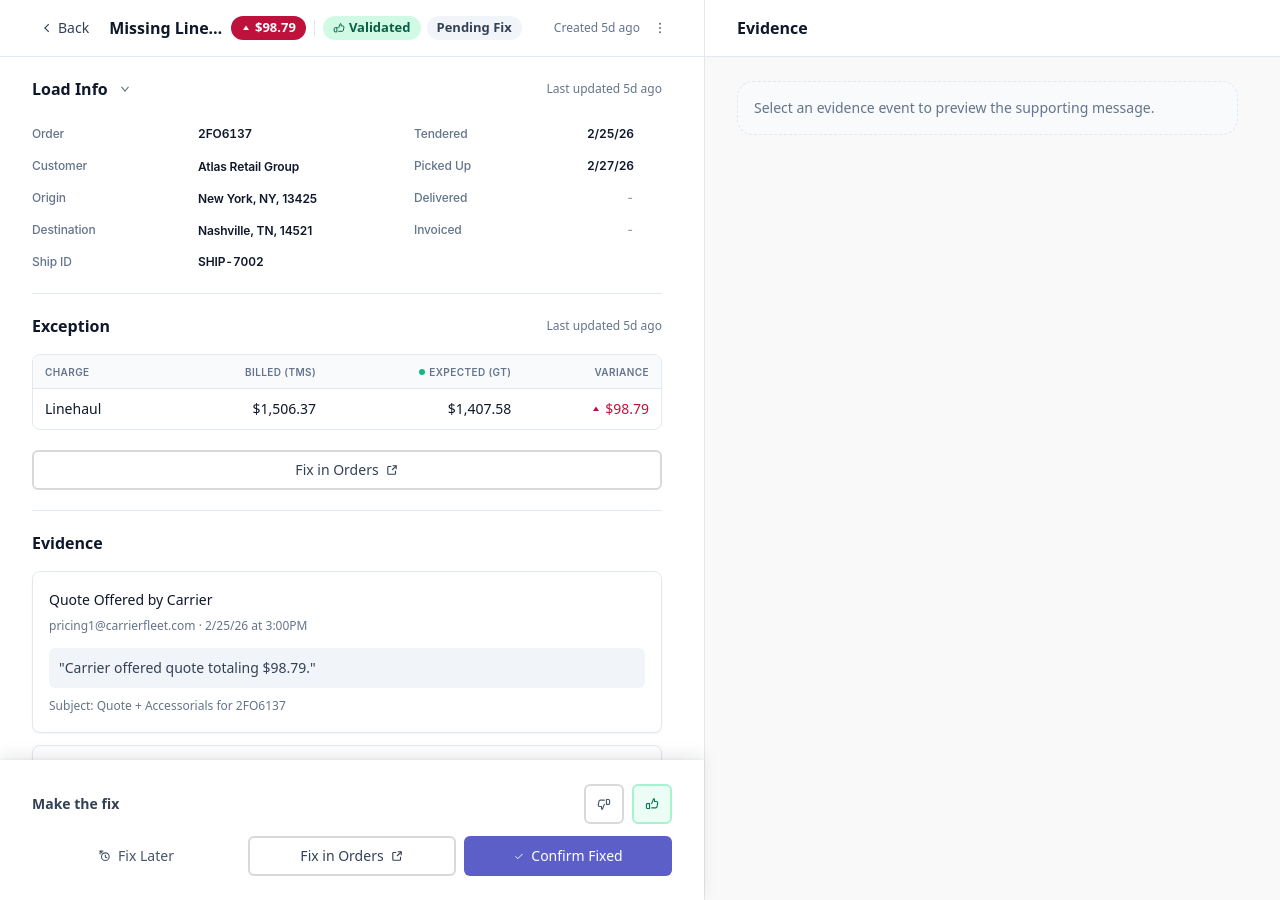
DetailPage › toggles evidence selection off when clicking the same card again
Click the button with test id "evidence-card-".
click(347, 652)  # box [32, 571, 662, 733]
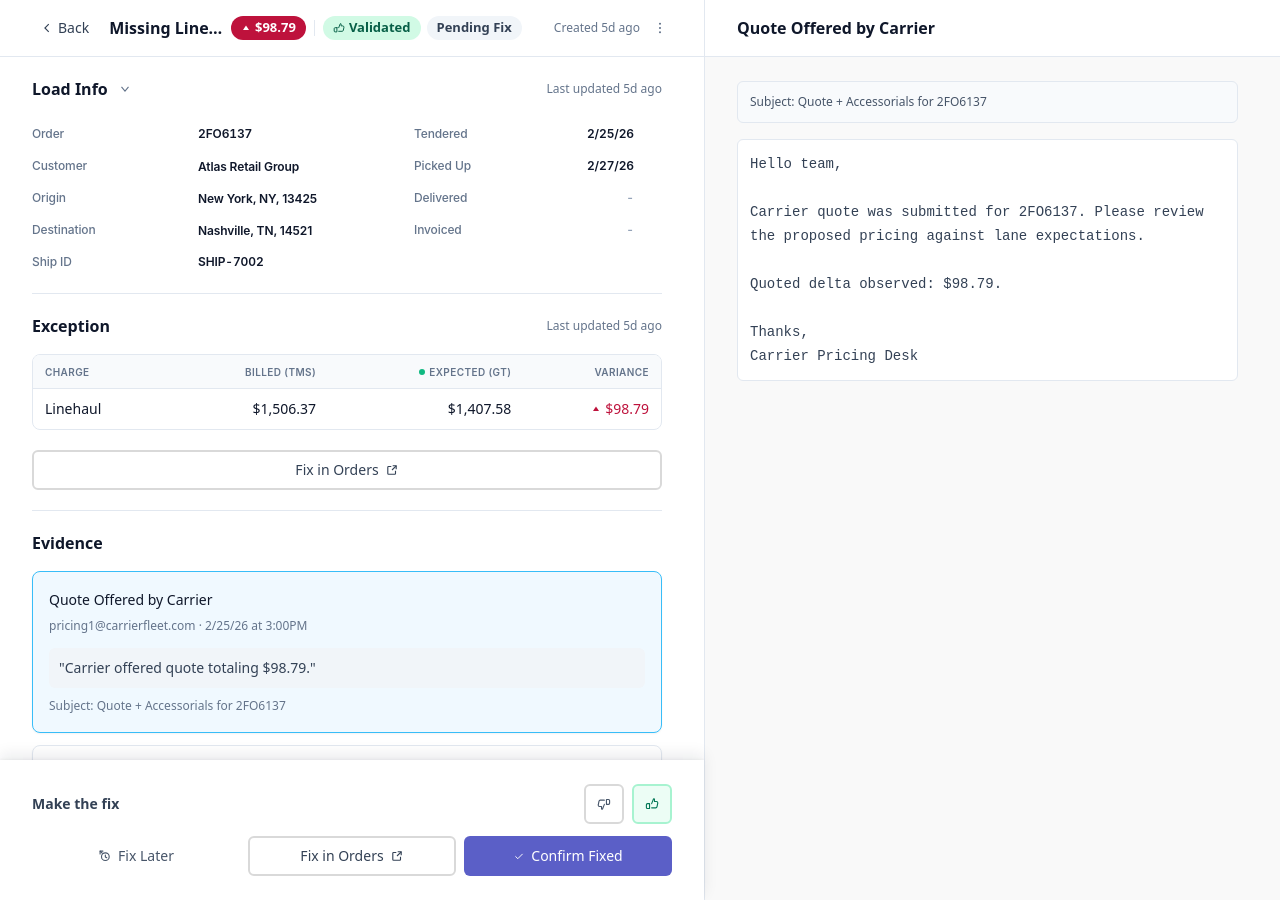
Now the element with test id "supporting-message-content" is shown, box [737, 81, 1238, 381]
Click the button with test id "evidence-card-".
click(347, 652)  # box [32, 571, 662, 733]
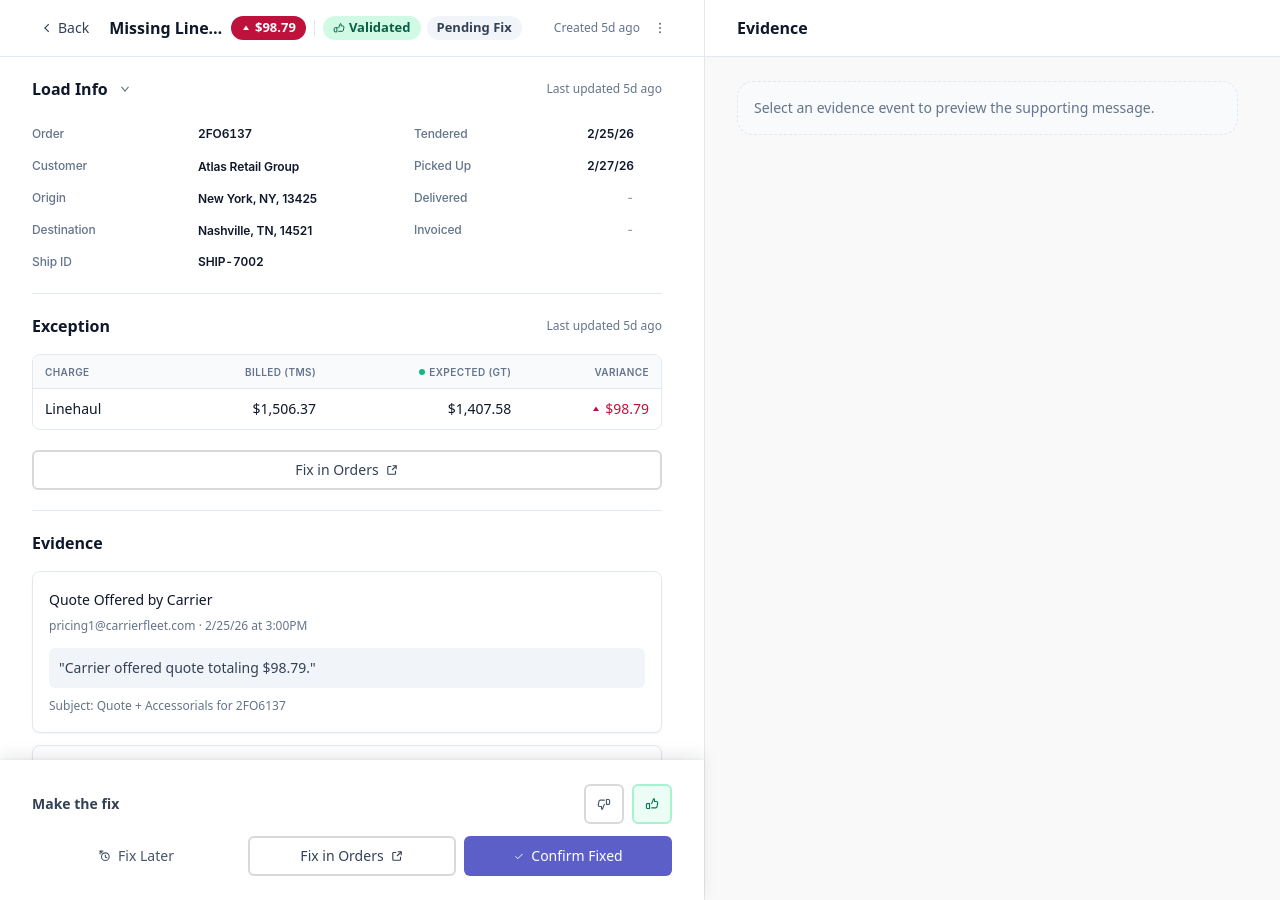
Now the element with test id "supporting-message-content" is gone
Now the text "Select an evidence event to preview the supporting message." is shown, box [737, 81, 1238, 135]
Now the heading with test id "supporting-message-header" reads "Evidence", box [737, 17, 808, 39]
